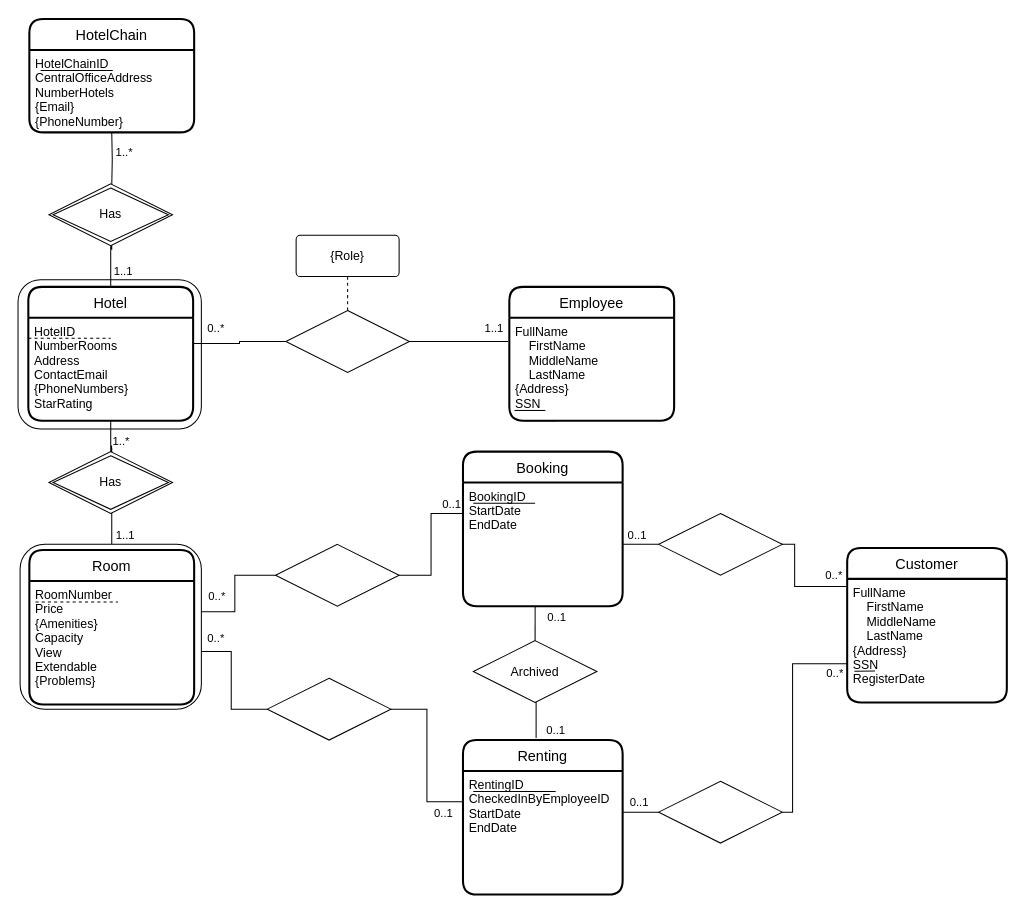
This 1026x913 diagram has some shape labels left out. The shapes that lost their labels are listed below. From the top down, each one's centre as x and y in pixels, then its label:
At point 347,341: "Works For".
At point 720,543: "CreateBooking".
At point 336,574: "Booked".
At point 328,708: "Rented".
At point 720,811: "ChecksIn".
